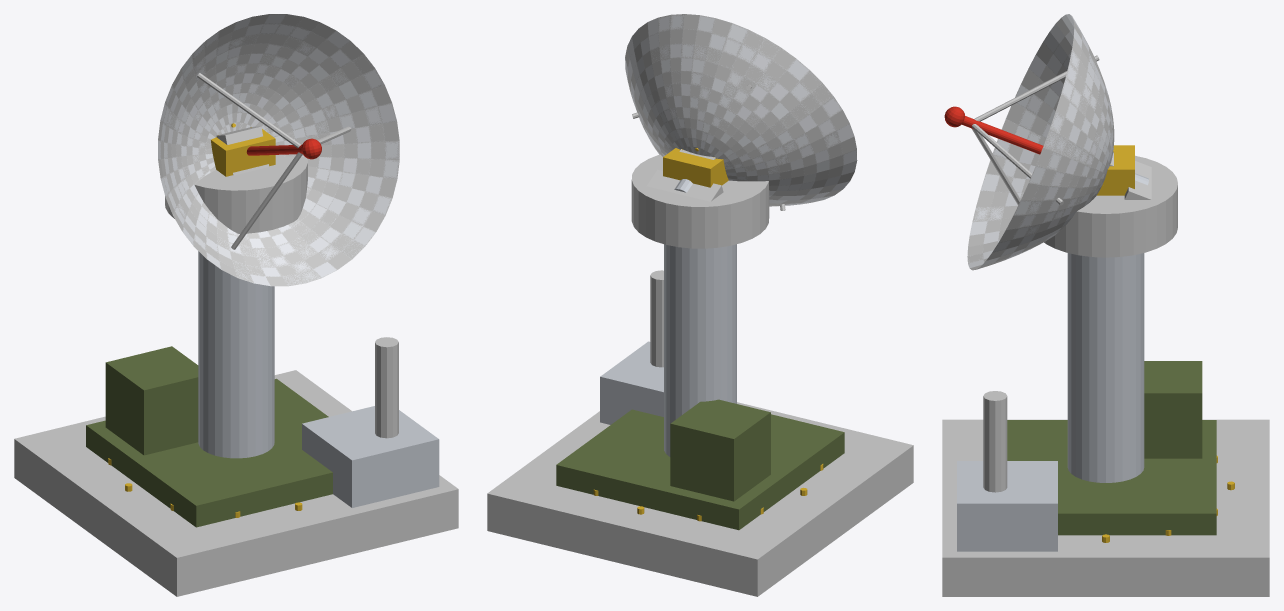
Rendered from radar.obj.
3 views of the same model, side by side, from view 1: azimuth 30°, elevation 25°; view 2: azimuth 150°, elevation 25°; view 3: azimuth 270°, elevation 25° (orthographic). The views are drawn at different scales.
Parts seen in each view (by area): view 1: radar; view 2: radar; view 3: radar.
Part boxes in pixels (x1,y1,x2,y2): radar: [14, 14, 458, 596]; radar: [487, 14, 913, 596]; radar: [942, 14, 1269, 596].
Size of the model in its own units: 1.36 by 2.3 by 1.36.
